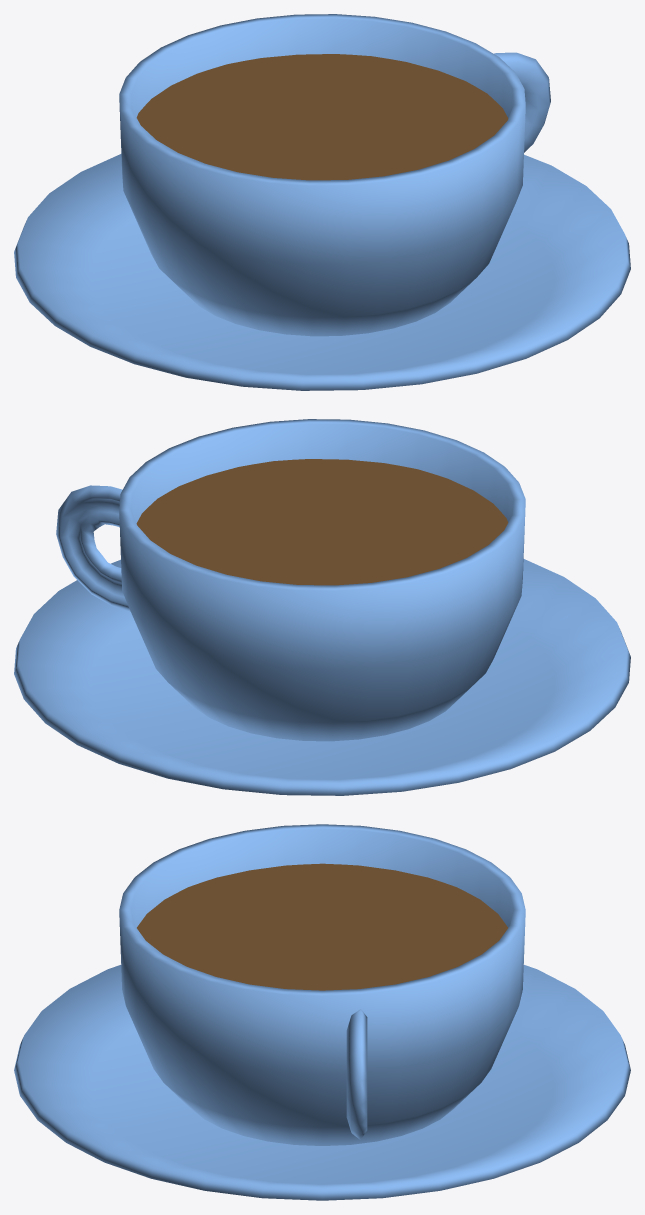
The model's file is CoffeeCup.glb.
The picture shows the model from 3 angles, top to bottom: view 1: azimuth 30°, elevation 25°; view 2: azimuth 150°, elevation 25°; view 3: azimuth 270°, elevation 25°; orthographic projection.
Visible parts, largest first — view 1: CoffeeCup, Coffee; view 2: CoffeeCup, Coffee; view 3: CoffeeCup, Coffee.
Part boxes in pixels (bbox=[...]): CoffeeCup: bbox=[14, 14, 630, 390]; Coffee: bbox=[136, 54, 508, 180]; CoffeeCup: bbox=[14, 419, 630, 795]; Coffee: bbox=[136, 459, 508, 585]; CoffeeCup: bbox=[14, 824, 630, 1200]; Coffee: bbox=[137, 863, 507, 990].
Size of the model in its own units: 0.2005 by 0.0671 by 0.2005.
